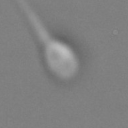normal: (16, 1, 50, 43)
